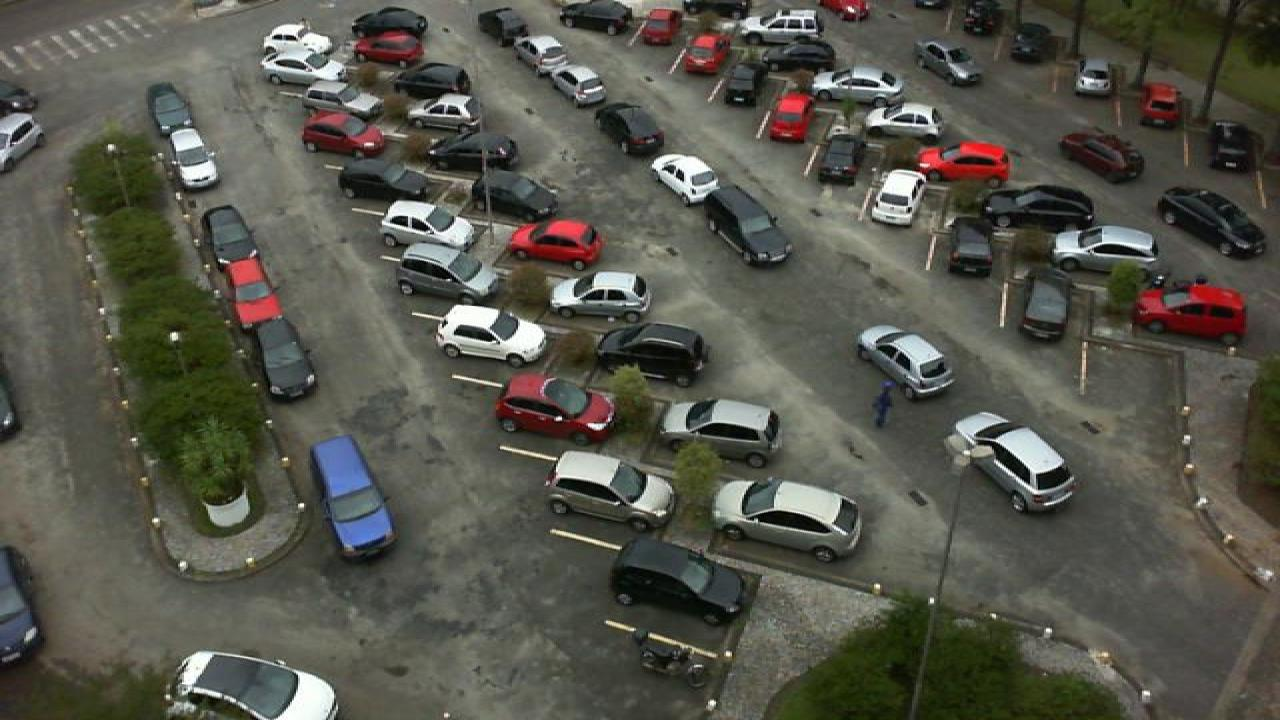Car: (708, 476, 864, 565), (946, 411, 1076, 513), (610, 534, 750, 626), (160, 650, 342, 720), (540, 449, 678, 534), (310, 432, 398, 562), (490, 371, 618, 444), (660, 397, 784, 468), (1152, 185, 1266, 258), (592, 321, 712, 387), (1132, 282, 1252, 348), (700, 185, 796, 266), (856, 324, 958, 398), (434, 304, 550, 366), (394, 244, 504, 307), (548, 270, 654, 323), (250, 318, 318, 400), (1050, 225, 1164, 273), (378, 198, 480, 251), (980, 182, 1094, 228), (504, 218, 604, 268), (1056, 130, 1148, 182), (336, 157, 430, 207), (296, 112, 388, 161), (1014, 268, 1076, 340), (222, 255, 282, 328), (916, 140, 1014, 184), (474, 172, 560, 222), (594, 101, 670, 155), (808, 65, 908, 106), (426, 129, 520, 170), (198, 204, 260, 266), (648, 152, 720, 205), (254, 52, 350, 90), (168, 126, 222, 190), (914, 38, 984, 87), (866, 169, 924, 226), (404, 92, 484, 132), (944, 216, 994, 278), (736, 8, 822, 44), (300, 81, 378, 120), (392, 62, 474, 99), (864, 102, 944, 139), (350, 30, 430, 66), (1204, 118, 1258, 171), (548, 65, 612, 108), (766, 90, 816, 144), (510, 33, 568, 78), (760, 38, 840, 70), (560, 0, 632, 35), (818, 134, 864, 187), (352, 7, 430, 38), (146, 81, 192, 133), (258, 22, 324, 58), (476, 5, 530, 48), (1136, 79, 1182, 129), (1006, 19, 1054, 64), (678, 31, 724, 76), (1070, 55, 1118, 97), (720, 63, 762, 108), (638, 7, 682, 46), (960, 0, 998, 37)
